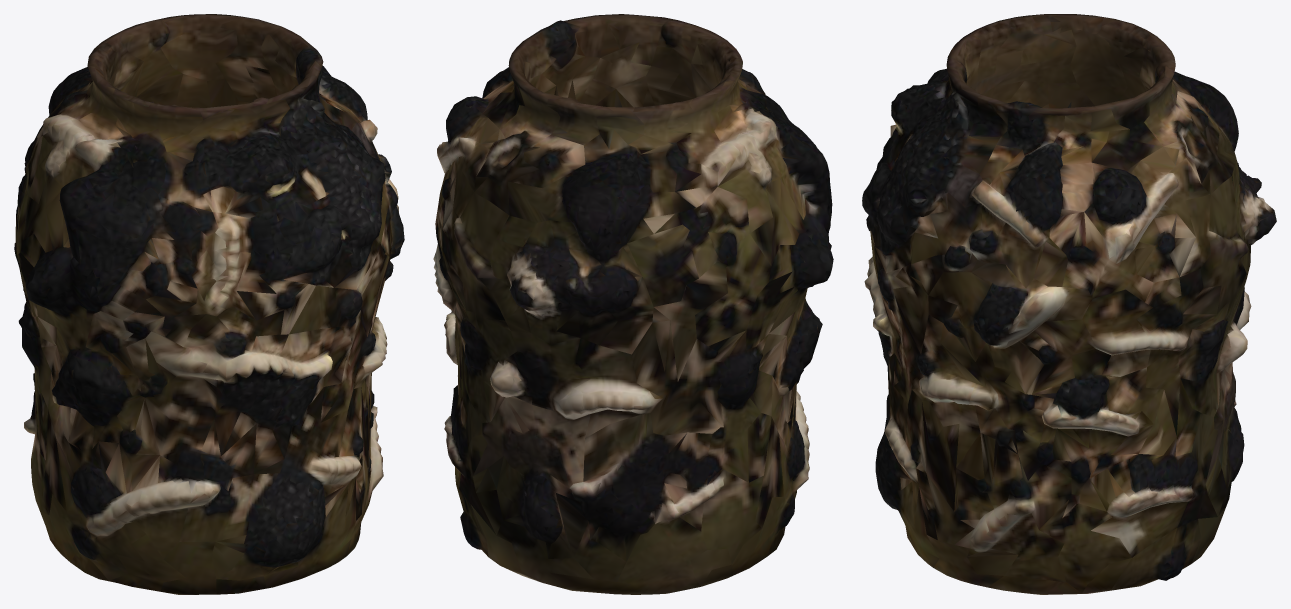
The model's file is MaterialPlace_05.glb.
3 views of the same model, side by side, from view 1: azimuth 30°, elevation 25°; view 2: azimuth 150°, elevation 25°; view 3: azimuth 270°, elevation 25° (orthographic).
Parts seen in each view (by area): view 1: Meshy_AI_Lava_Born_Vessel_0529164726_texture; view 2: Meshy_AI_Lava_Born_Vessel_0529164726_texture; view 3: Meshy_AI_Lava_Born_Vessel_0529164726_texture.
Part boxes in pixels (<box>): Meshy_AI_Lava_Born_Vessel_0529164726_texture: <box>14,14,404,594</box>; Meshy_AI_Lava_Born_Vessel_0529164726_texture: <box>433,14,833,594</box>; Meshy_AI_Lava_Born_Vessel_0529164726_texture: <box>862,14,1276,594</box>.
Size of the model in its own units: 1.56 by 1.9 by 1.51.
1 material, 1 textured.
